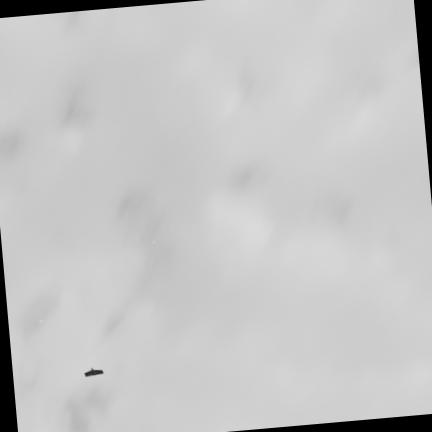Shahed: (83, 367, 106, 378)
